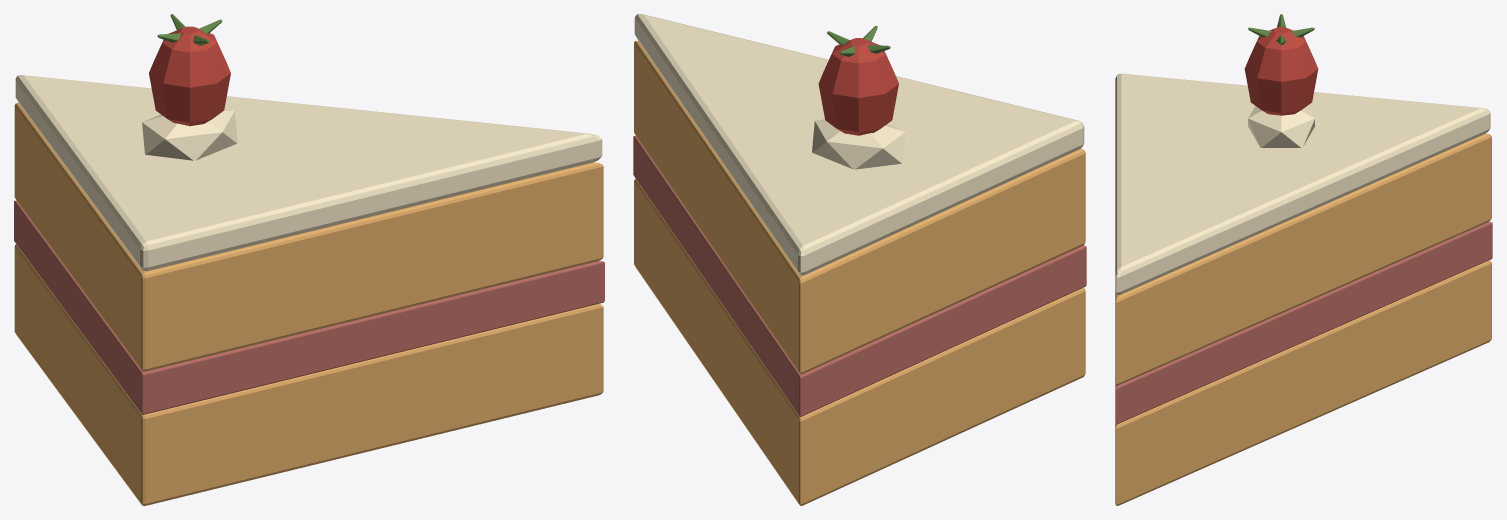
File: cake_slice.fbx
3 renders of one model, left to right at view 1: azimuth 30°, elevation 25°; view 2: azimuth 150°, elevation 25°; view 3: azimuth 270°, elevation 25°, orthographic. The views are drawn at different scales.
Visible parts, largest first — view 1: cake_slice; view 2: cake_slice; view 3: cake_slice.
Boxes of the visible parts, x1,y1,x2,y2 form: cake_slice: (14, 14, 604, 505); cake_slice: (633, 14, 1086, 505); cake_slice: (1115, 14, 1492, 505).
Size of the model in its own units: 23.04 by 18.05 by 18.17.
